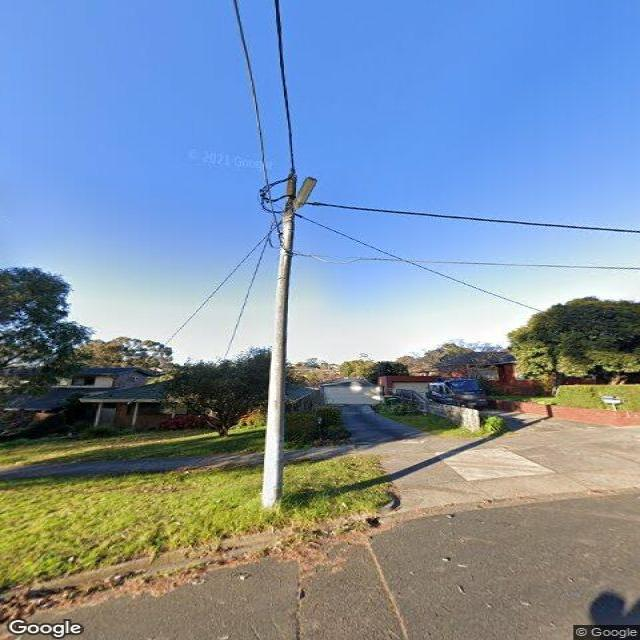concrete-pole: (260, 169, 298, 506)
streetlight: (292, 169, 319, 217)
